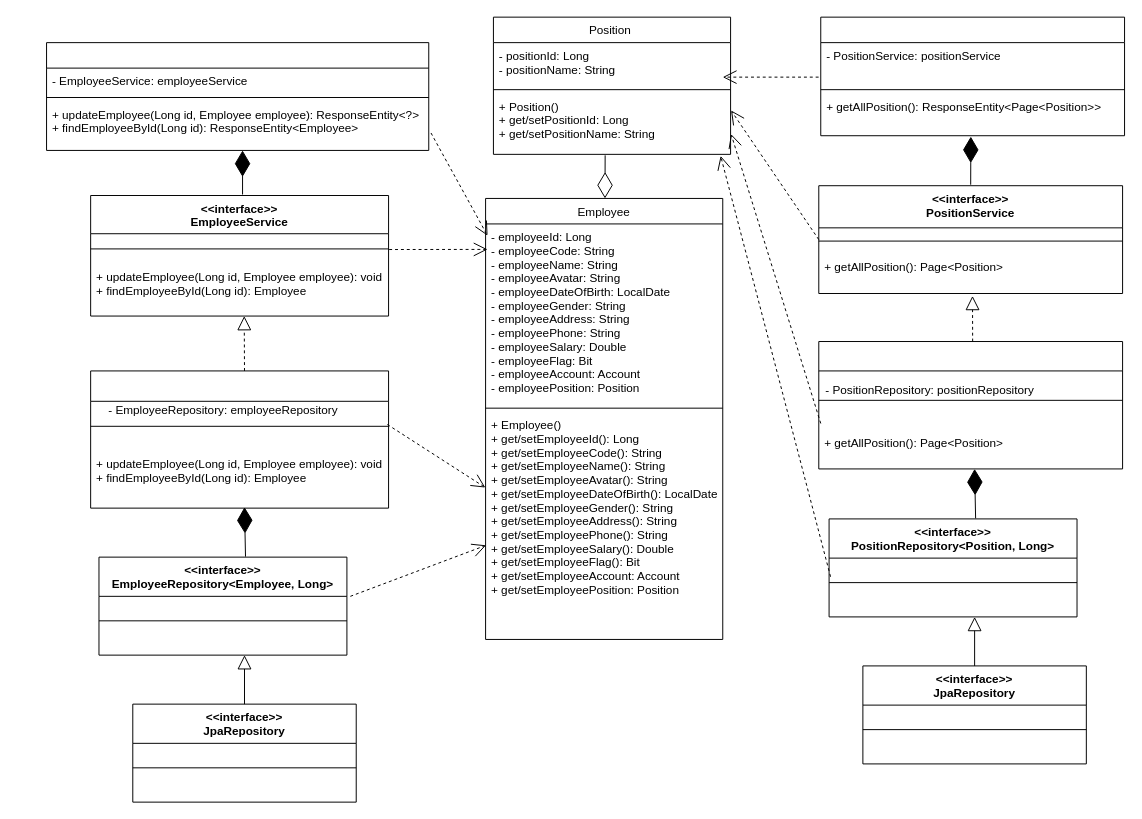
This 1142x819 diagram has some shape labels left out. The shapes that lost their labels are listed below. From the top down, each one's box as (x1, y1, x2, y2) in pixels, then its label:
(46, 42, 429, 150): EmployeeController
(820, 16, 1125, 136): PositionController
(818, 341, 1123, 469): PositionServiceImpl
(90, 370, 389, 508): EmployeeServiceImpl
